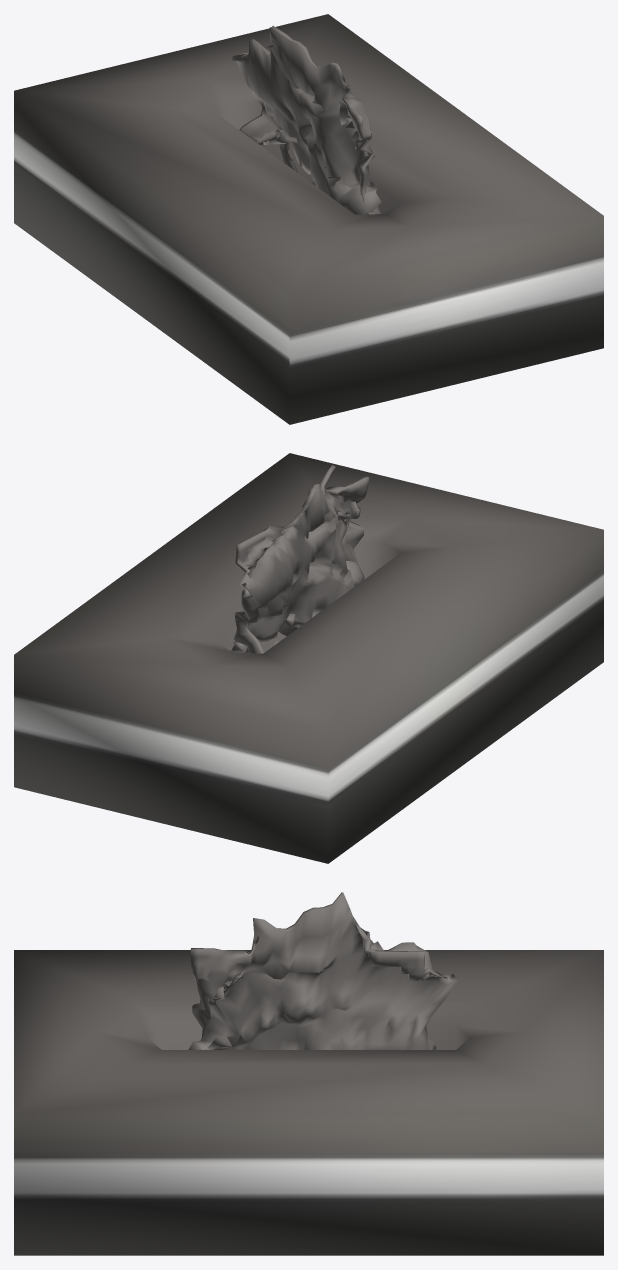
File: Assets.fbx_Taschent_cher.fbx
3 renders of one model, top to bottom at view 1: azimuth 30°, elevation 25°; view 2: azimuth 150°, elevation 25°; view 3: azimuth 270°, elevation 25°, orthographic. The views are drawn at different scales.
Visible parts, largest first — view 1: Taschentücher, Plane.016; view 2: Taschentücher, Plane.016; view 3: Taschentücher, Plane.016.
Boxes of the visible parts, x1,y1,x2,y2 form: Taschentücher: (14,14,603,424); Plane.016: (232,26,381,214); Taschentücher: (14,453,603,863); Plane.016: (231,465,369,653); Taschentücher: (14,950,603,1255); Plane.016: (188,892,457,1049).
Bounding box in the file's own units: 16.63 × 12.8 × 25.26.
